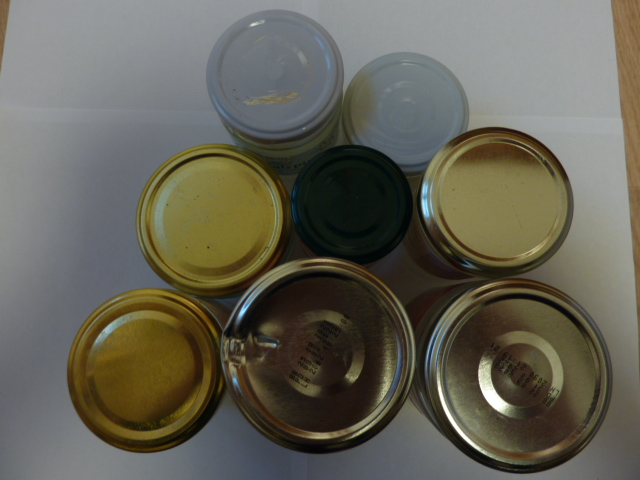damaged: (209, 11, 342, 139)
